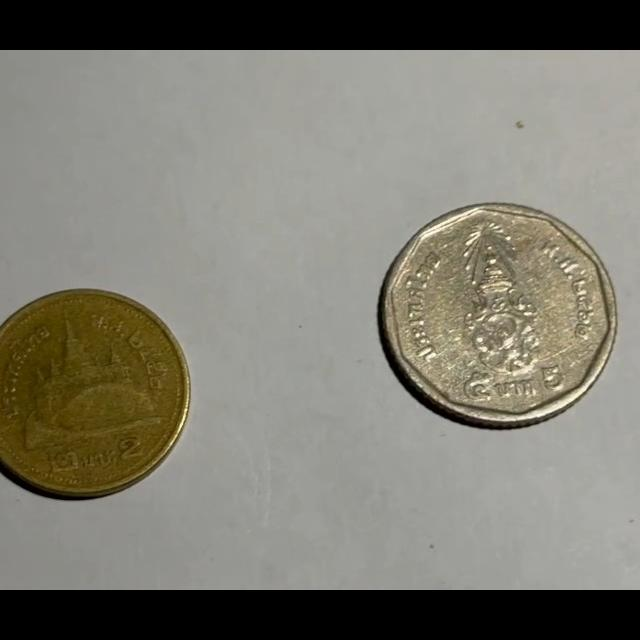2-baht: (0, 290, 186, 499)
5-baht: (377, 203, 614, 427)
